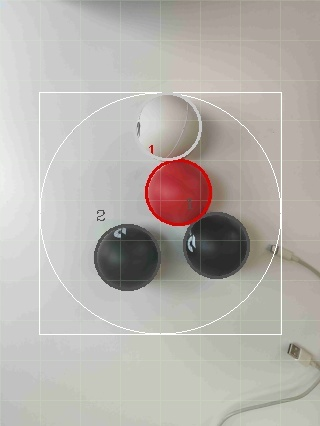Pelota blanca: (92, 222, 161, 291), (135, 92, 203, 160)
Pelota negra: (180, 212, 251, 280), (92, 222, 161, 291)
Pelota roja: (143, 158, 214, 227)
